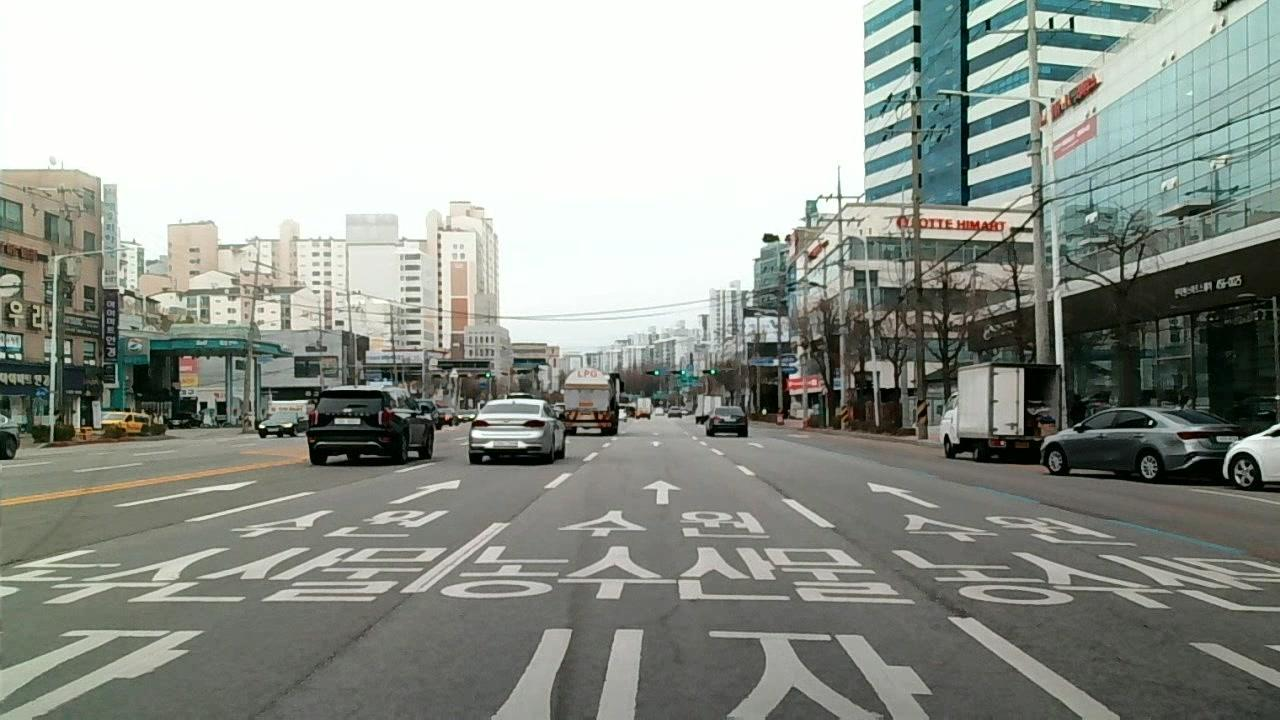vcrack: (258, 601, 401, 720), (871, 552, 962, 616), (1, 534, 114, 574), (116, 520, 183, 540), (510, 490, 549, 522), (756, 475, 787, 499), (828, 524, 858, 546)
